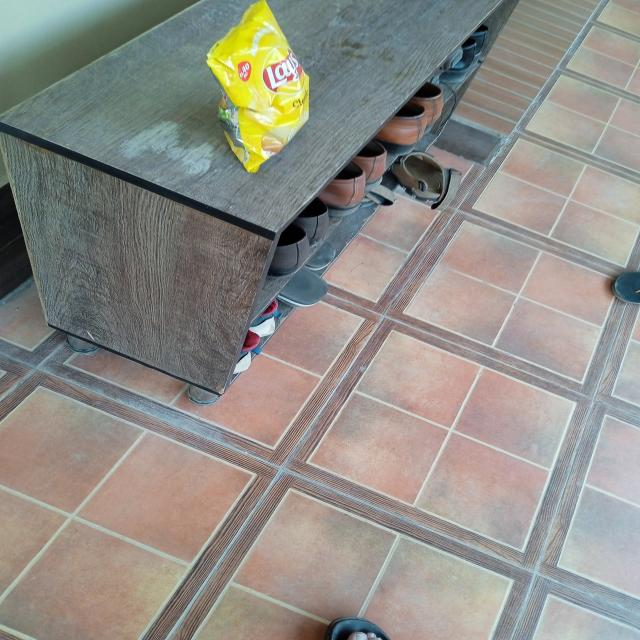Plastic: (197, 0, 322, 178)
